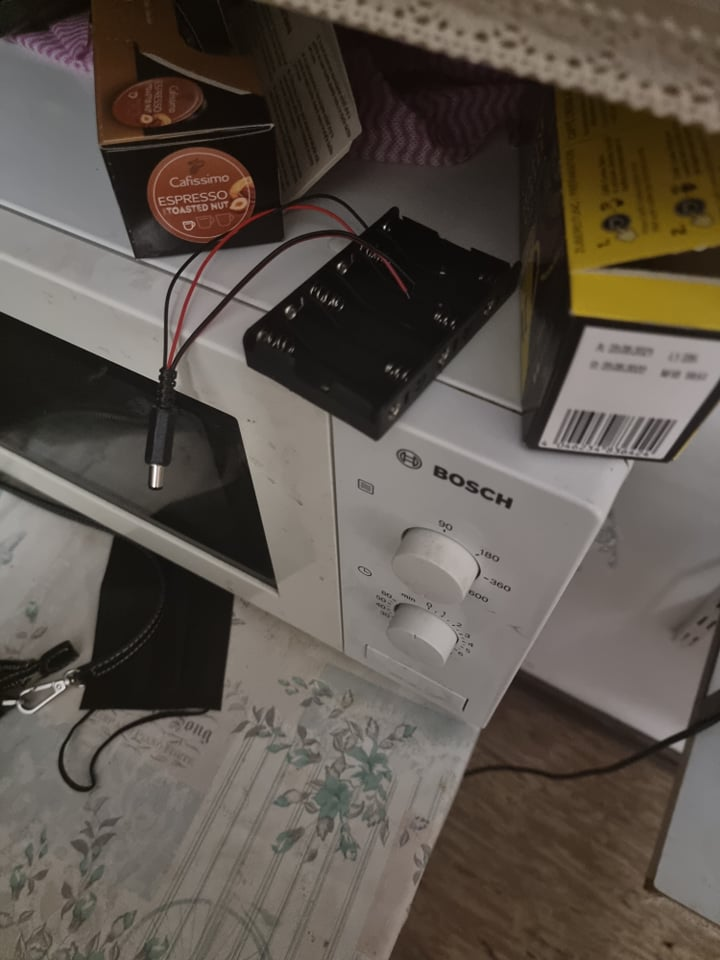BATTERY BOX: (245, 205, 519, 441)
